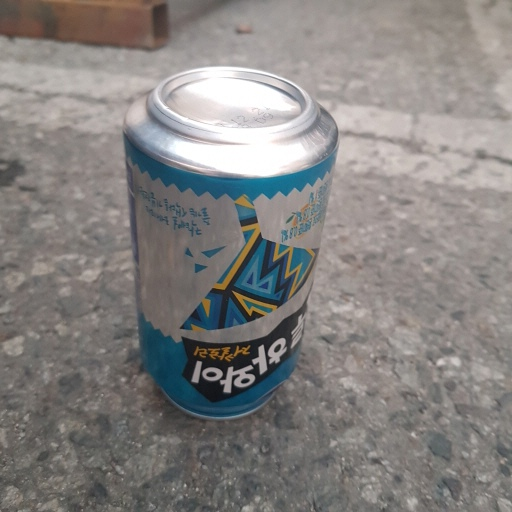Metal_0: (121, 68, 341, 428)
